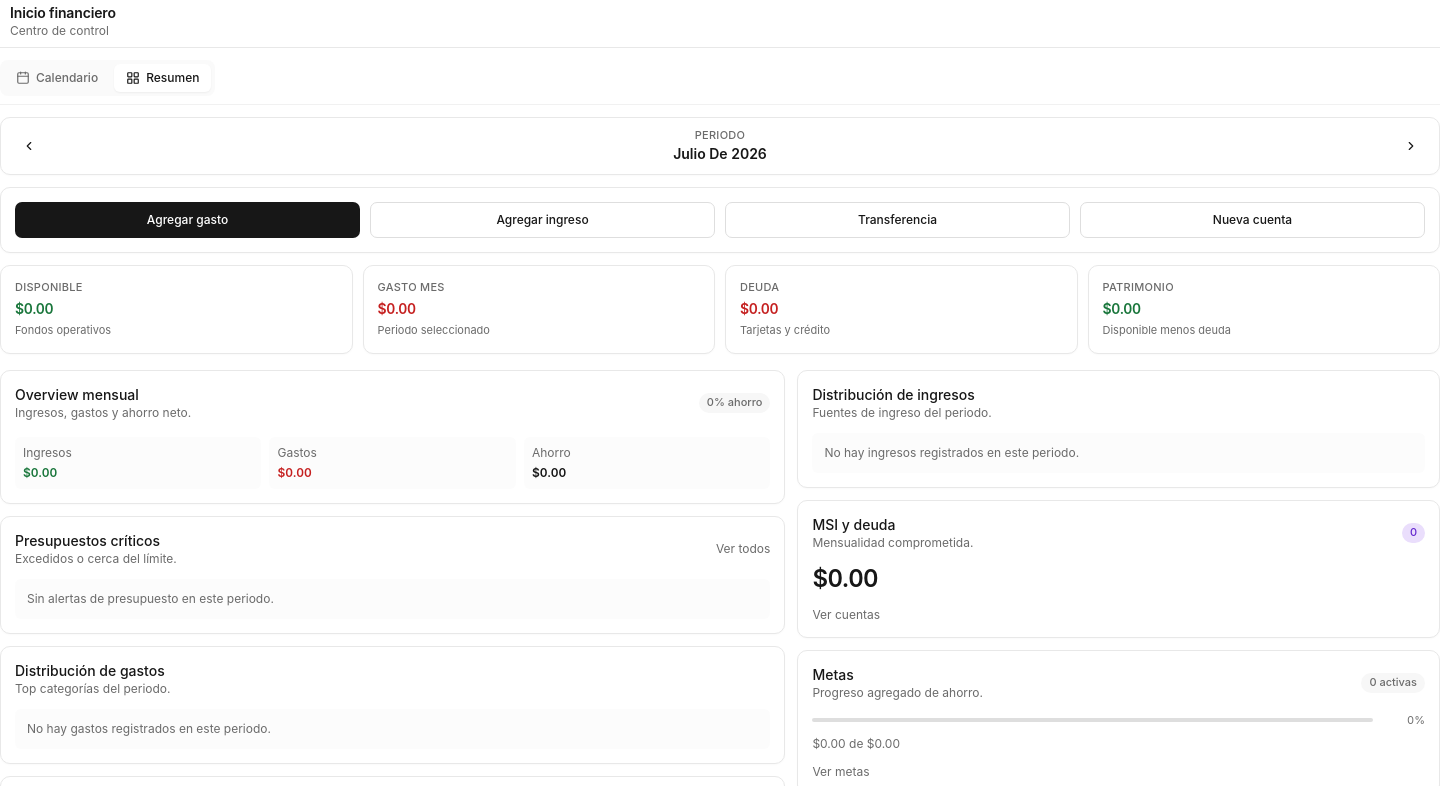
DashboardPage › renders deterministic zero aggregates and empty business states in overview tab
Expected: the tab "Resumen" is shown, [114,64,212,92]
Expected: the text "julio de 2026" is shown, [673,144,767,164]
# Switch to Calendar sub-tab
Click the tab "Calendario" at (57, 78), box [4,64,110,92]
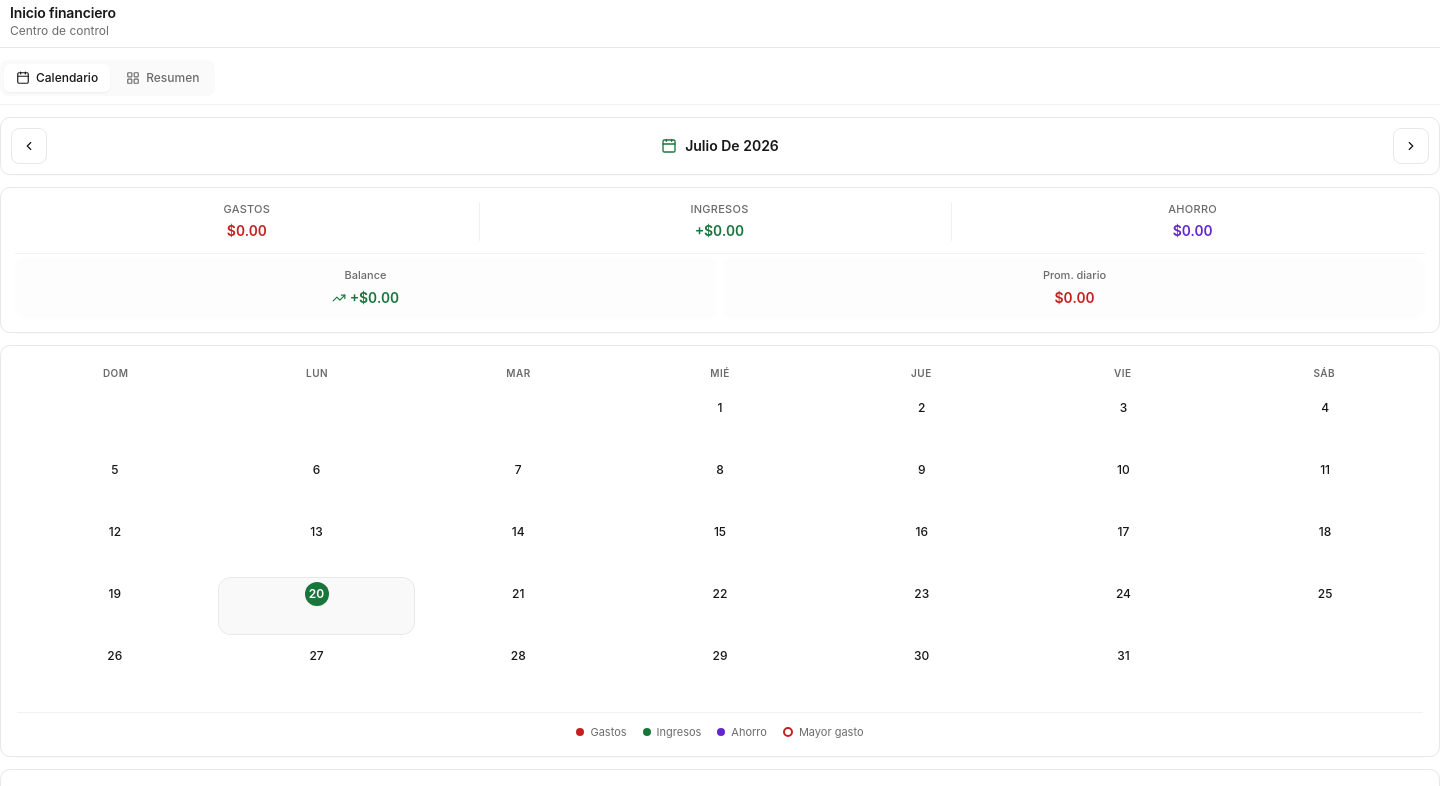
Expected: the button named "Mes anterior" is shown, [11,128,47,164]
Result: the text "Mayor gasto" is shown at [799,725,864,740]
# Switch back to Resumen sub-tab
Click the tab "Resumen" at (163, 78), box [114,64,212,92]
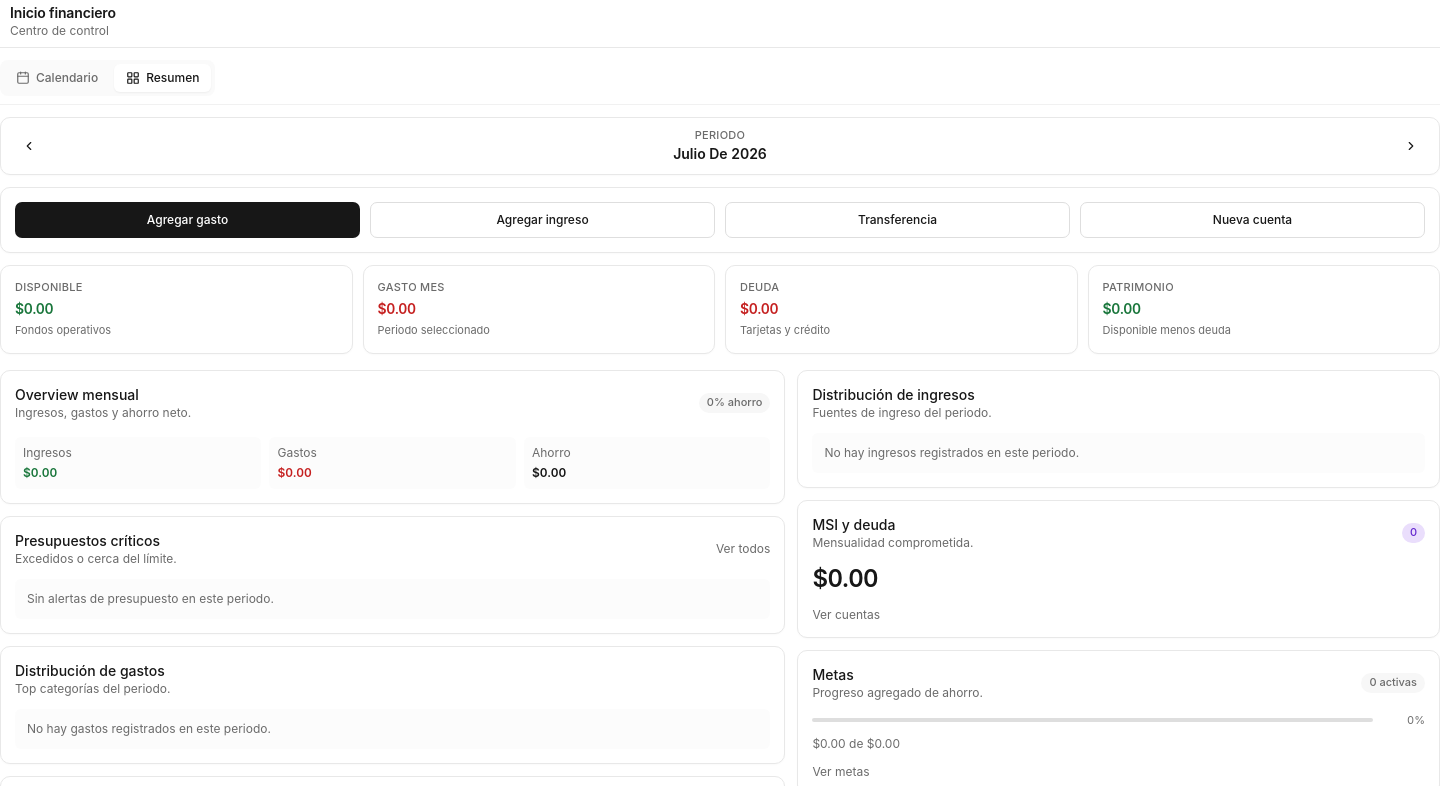
Result: the text "Overview mensual" is shown at [15,386,139,403]
